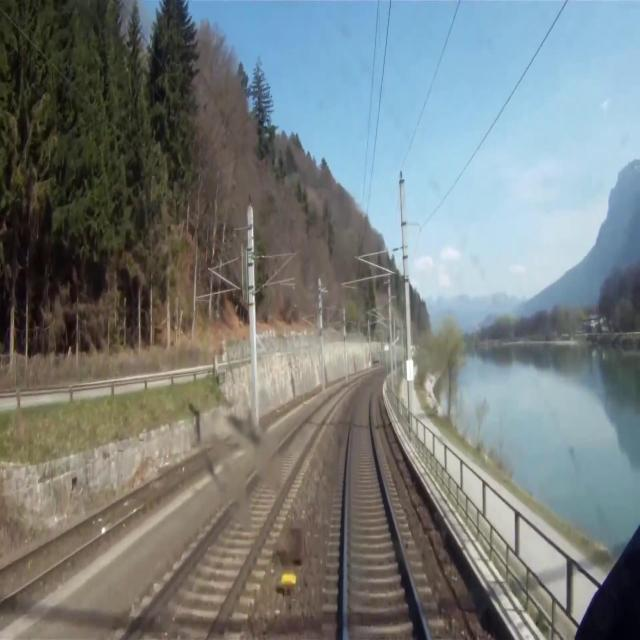rail-track: (130, 391, 342, 639), (0, 424, 252, 596), (348, 373, 425, 639)
